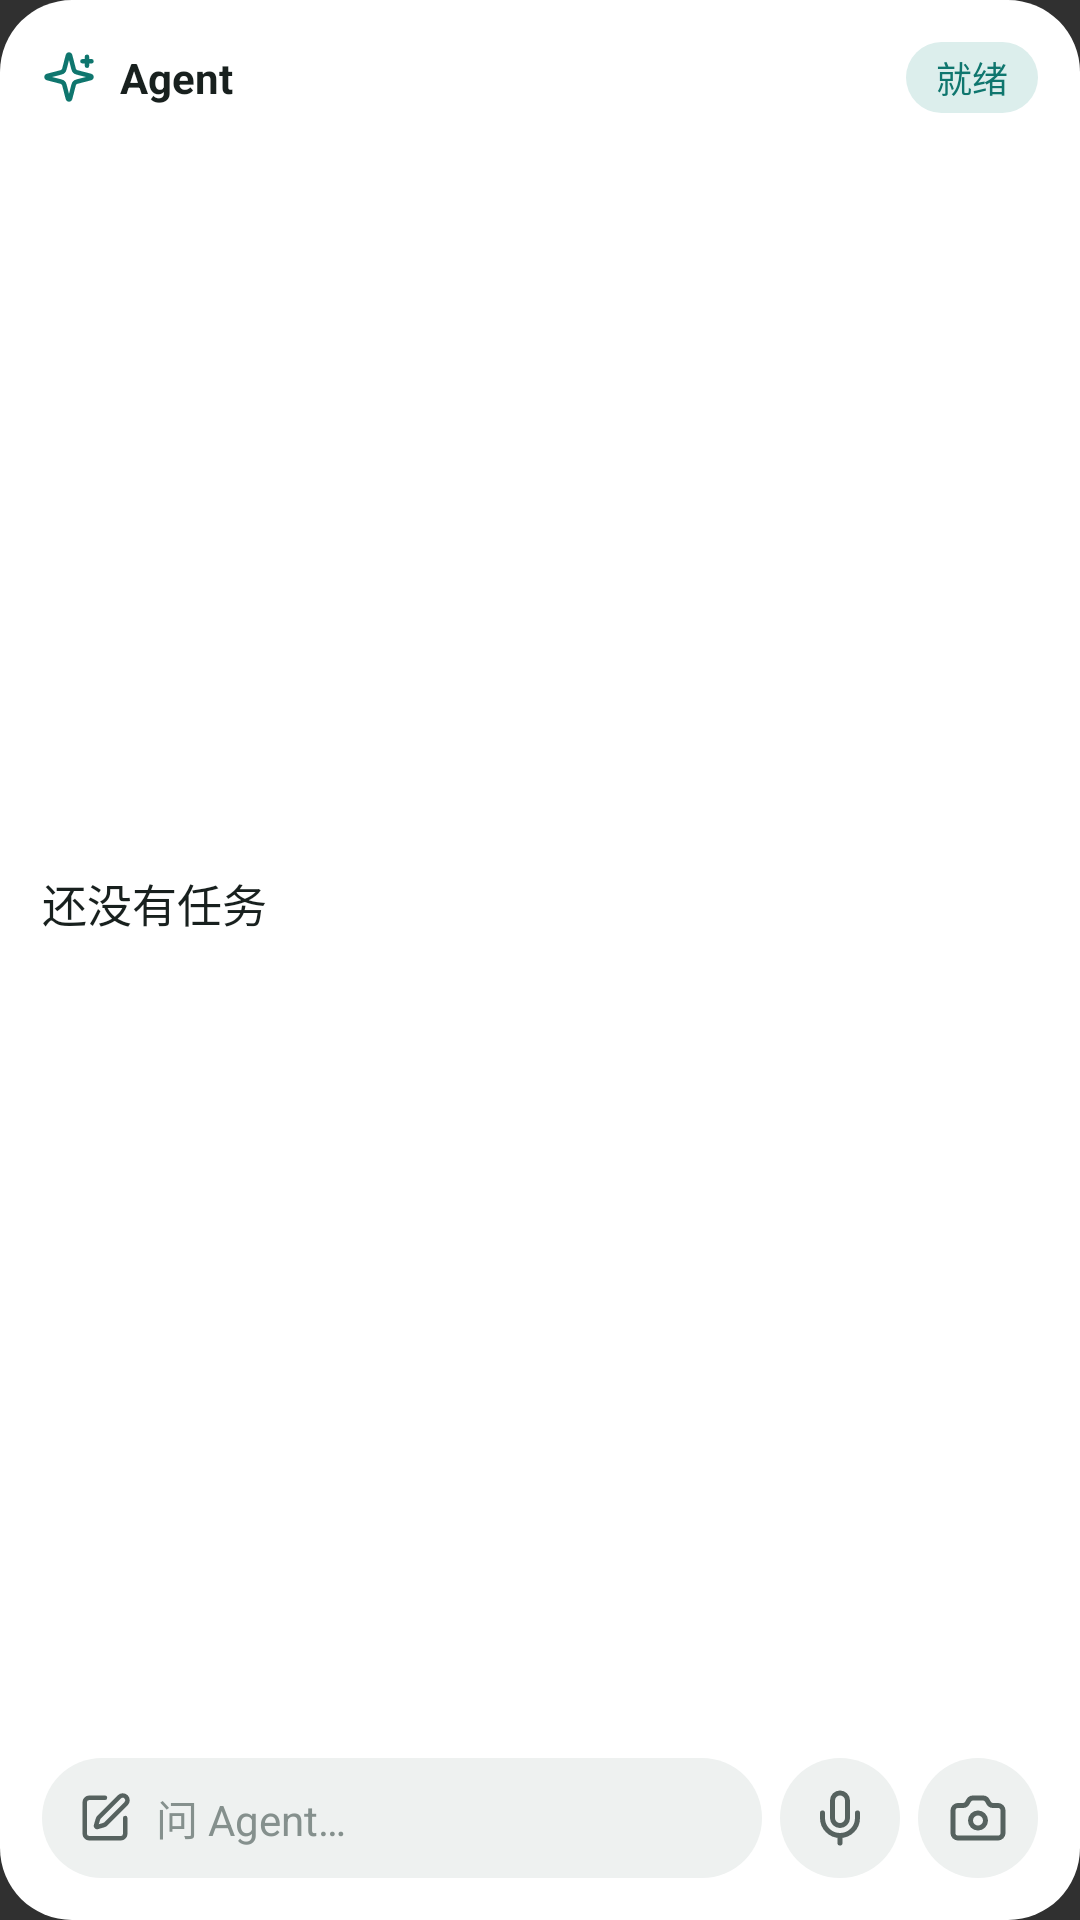

Locate icon controls on the screen. Image size 1080w x 1920h, boxes as (x1=x1, y1=y1, x2=x2, y2=y2).
widget camera: (x1=918, y1=1758, x2=1038, y2=1878)
widget mic: (x1=780, y1=1758, x2=900, y2=1878)
widget sparkle: (x1=44, y1=52, x2=94, y2=102)
